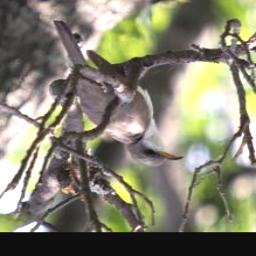Cuckoo: (54, 16, 186, 171)
